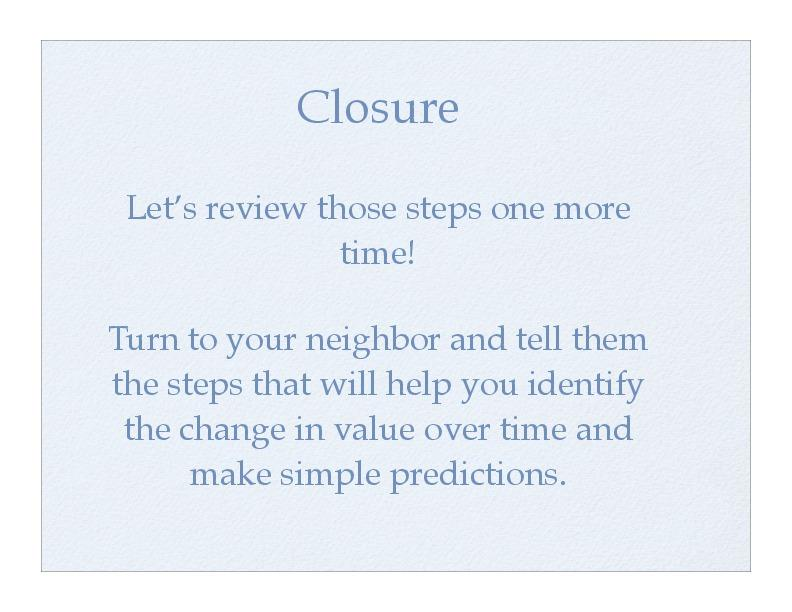paragraph: (88, 168, 694, 524)
title: (282, 80, 468, 132)
